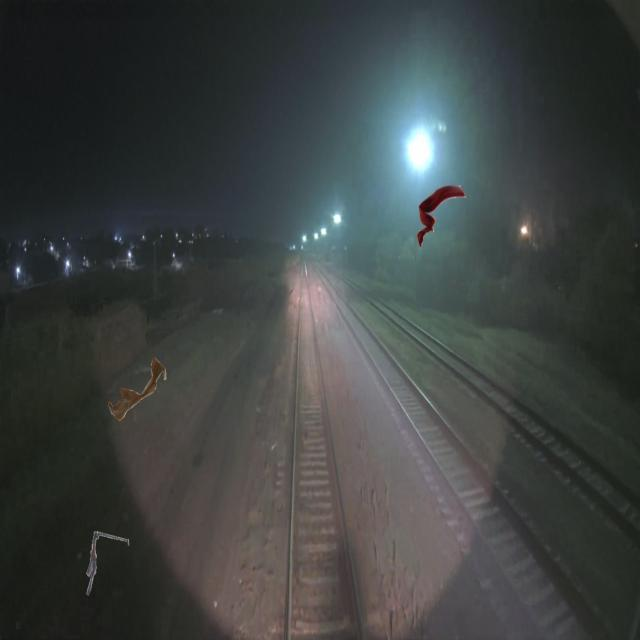floating object: (108, 356, 166, 421), (417, 185, 466, 249), (85, 532, 130, 596)
